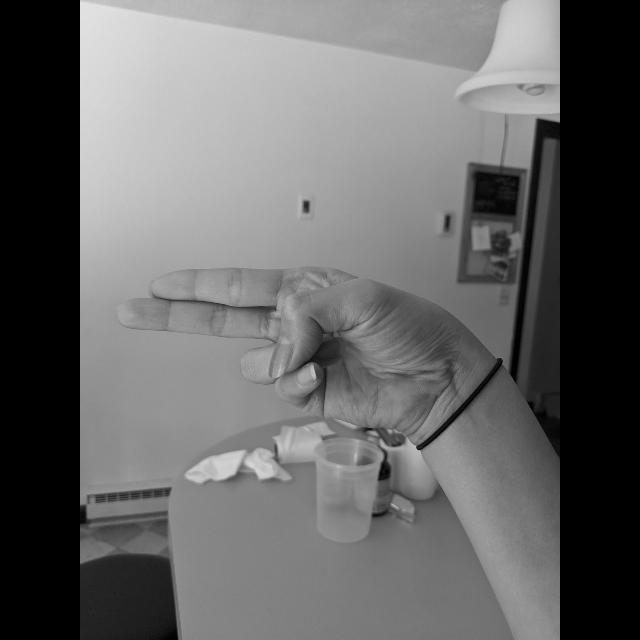H: (113, 262, 467, 436)
